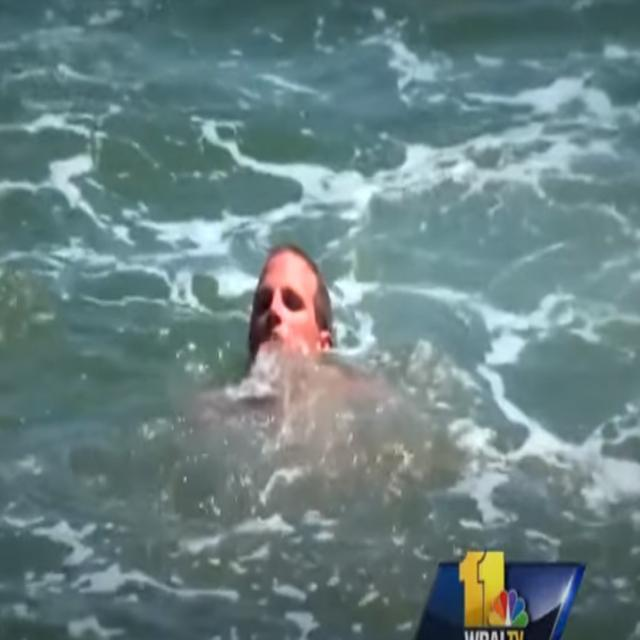Out of Water: (239, 230, 339, 394)
